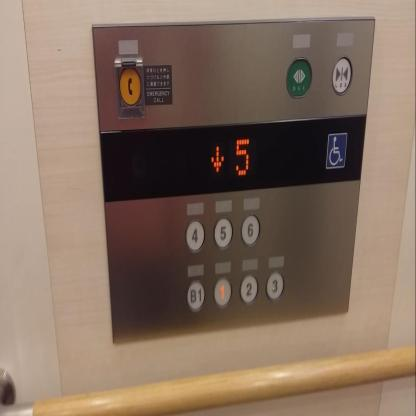1: (212, 275, 232, 307)
2: (238, 272, 258, 304)
3: (265, 269, 284, 301)
4: (184, 218, 204, 252)
5: (212, 214, 233, 248)
6: (240, 212, 260, 248)
B1: (186, 278, 206, 312)
CH: (325, 130, 347, 170)
call: (117, 63, 142, 107)
close: (331, 51, 353, 97)
open: (286, 53, 312, 98)
